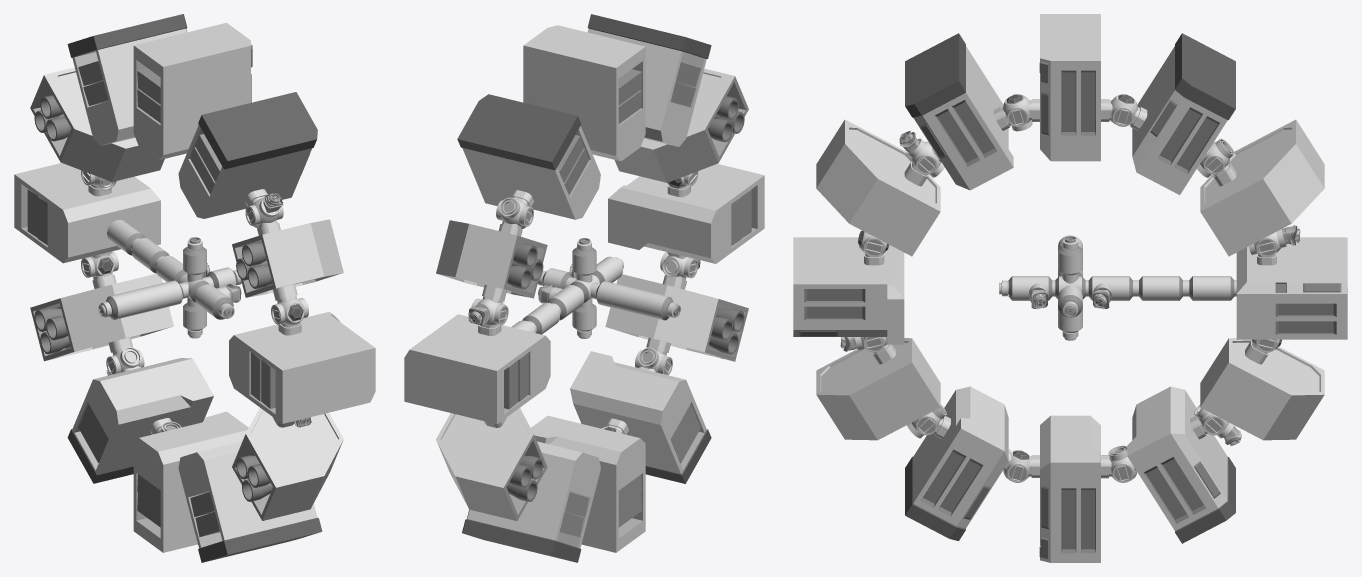
File: endurance.glb
The picture shows the model from 3 angles, left to right: view 1: azimuth 30°, elevation 25°; view 2: azimuth 150°, elevation 25°; view 3: azimuth 270°, elevation 25°; orthographic projection. The views are drawn at different scales.
Visible parts, largest first — view 1: Connector; view 2: Connector; view 3: Connector.
Boxes of the visible parts, x1=… form: Connector: x1=14, y1=14, x2=375, y2=562; Connector: x1=404, y1=14, x2=764, y2=562; Connector: x1=793, y1=14, x2=1347, y2=562.
Size of the model in its own units: 17.72 by 54.6 by 54.6.
2 materials, 2 textured.
